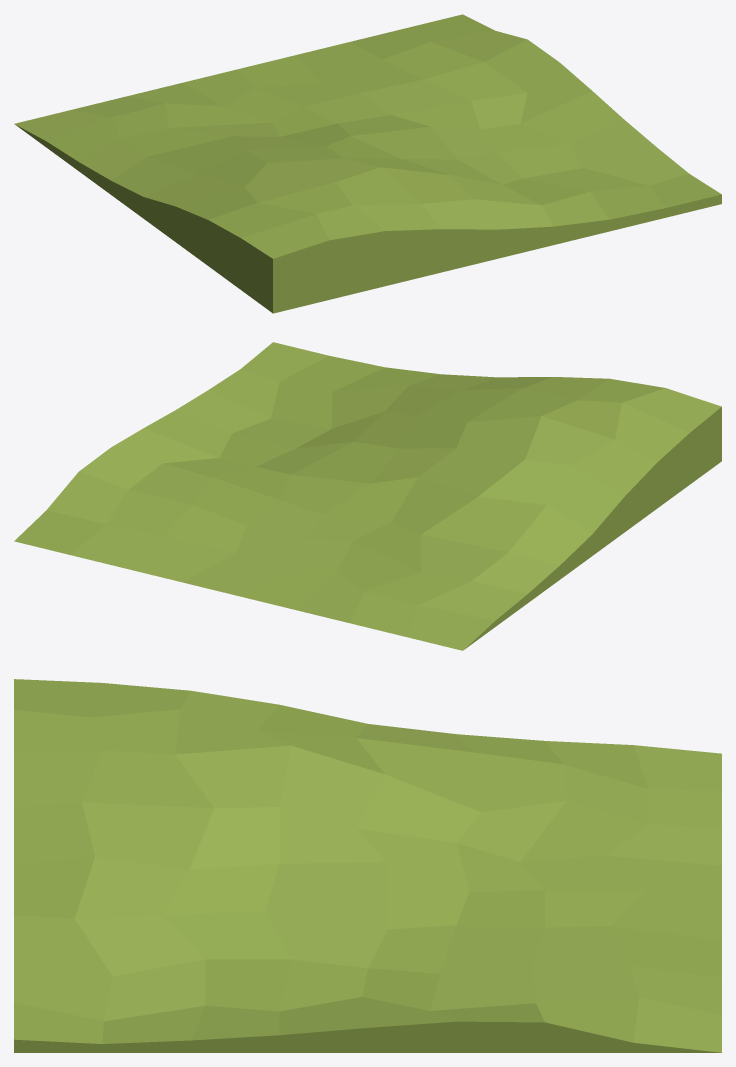
File: Savanna.fbx
The picture shows the model from 3 angles, top to bottom: view 1: azimuth 30°, elevation 25°; view 2: azimuth 150°, elevation 25°; view 3: azimuth 270°, elevation 25°; orthographic projection. The views are drawn at different scales.
Parts seen in each view (by area): view 1: Savanna; view 2: Savanna; view 3: Savanna.
Part boxes in pixels (bbox=[...]): Savanna: bbox=[14, 14, 721, 313]; Savanna: bbox=[14, 342, 721, 650]; Savanna: bbox=[14, 679, 721, 1052].
Size of the model in its own units: 1000 by 131 by 1000.
